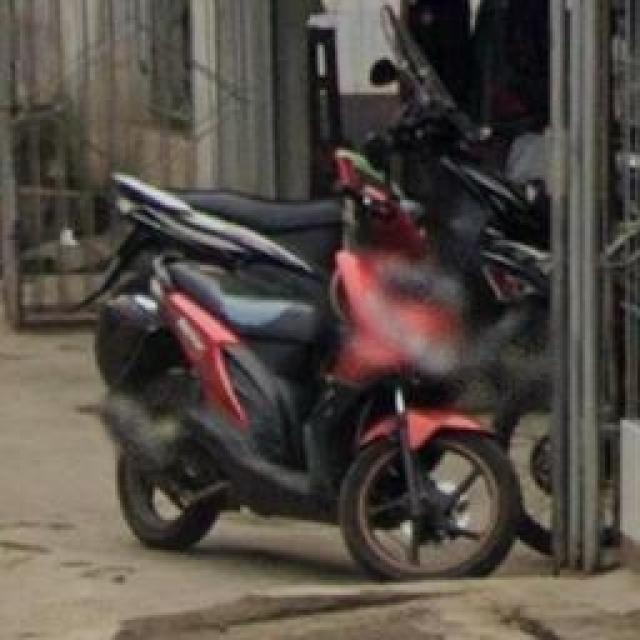Motor: (92, 152, 520, 580)
